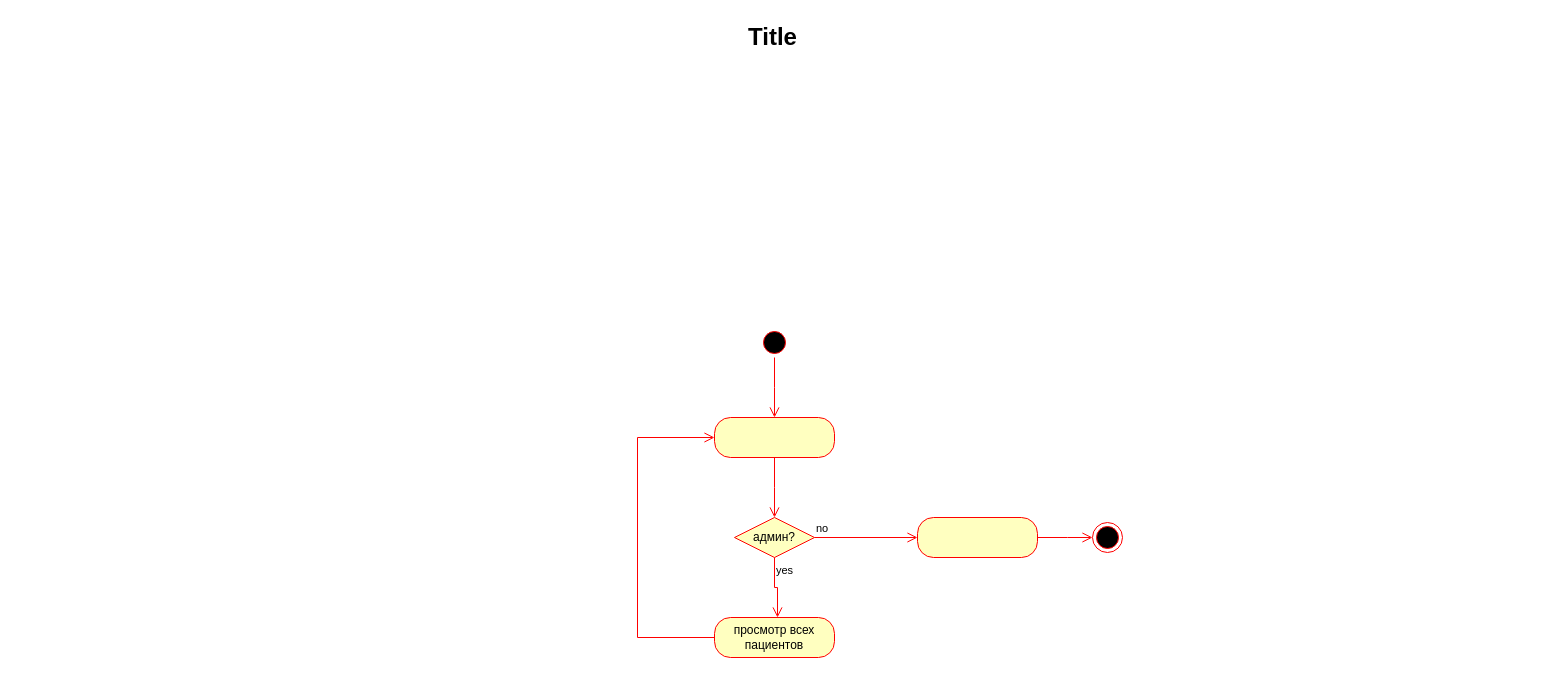
This 1544x675 diagram has some shape labels left out. Here are the shapes that lost their labels. From the top down, the box of each, then its label:
(714, 416, 834, 458): авторизация
(916, 516, 1038, 558): создание нового обследования
